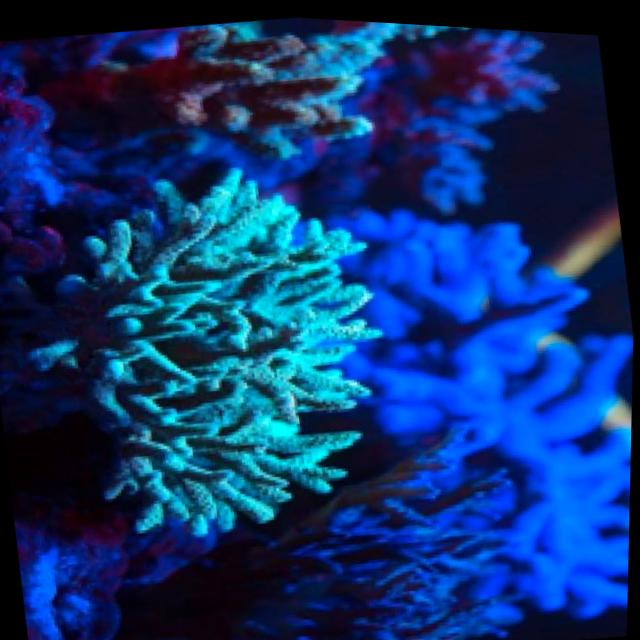Bleached Coral: (29, 156, 414, 553)
Healthy Coral: (52, 14, 396, 191)
